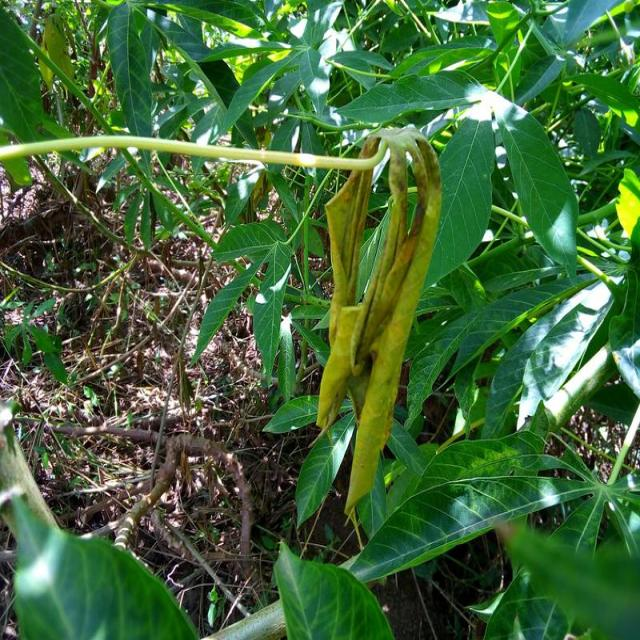cassava leaf: (315, 122, 444, 517)
